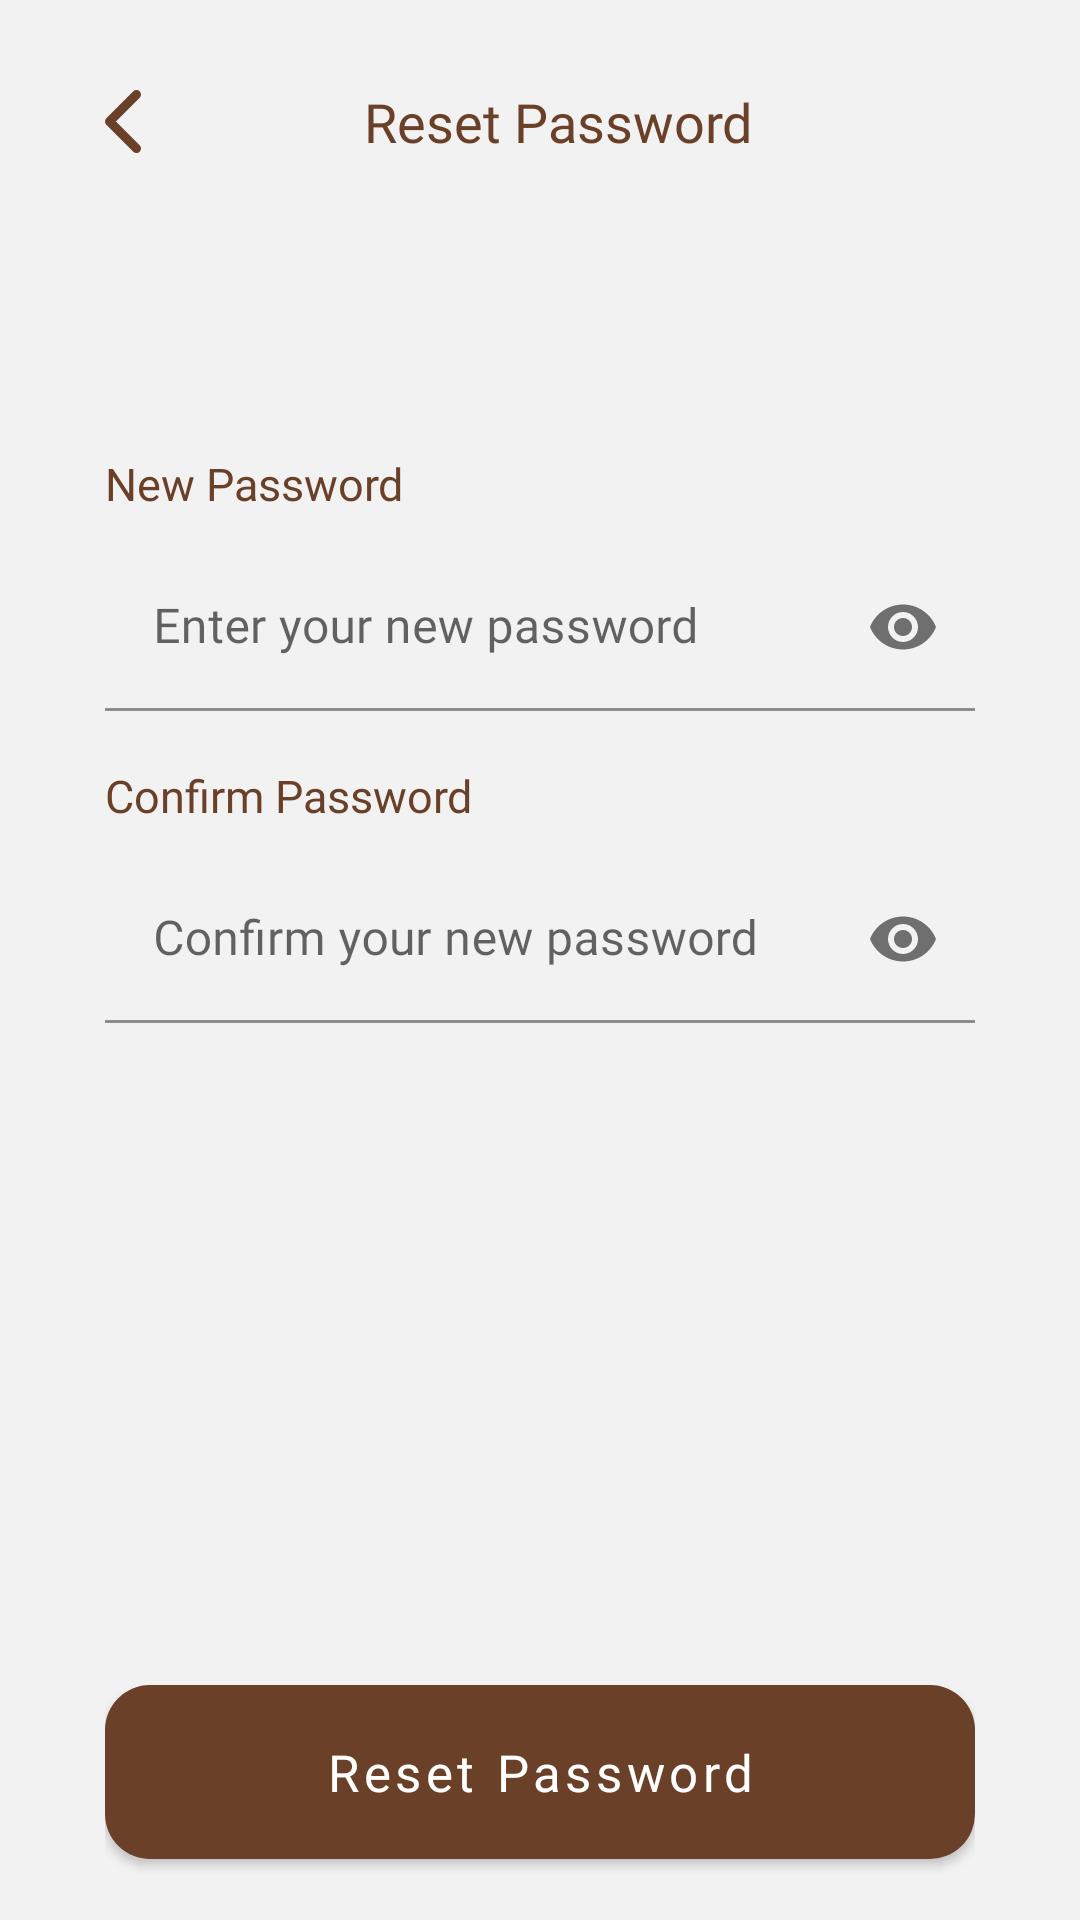

Named icons in this screenshot (1080px×1920px) and their centers, (x=x, y=y):
arrow left choco: (x=123, y=121)
